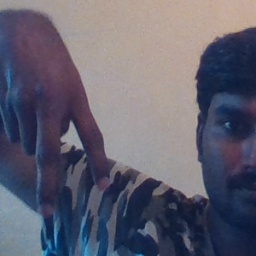Y: (8, 52, 114, 219)
